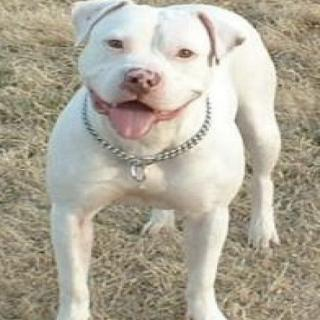dog: (61, 0, 262, 147)
nose: (124, 66, 160, 93)
